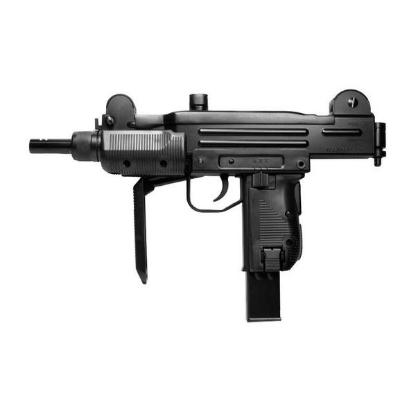gun: (27, 82, 389, 328)
